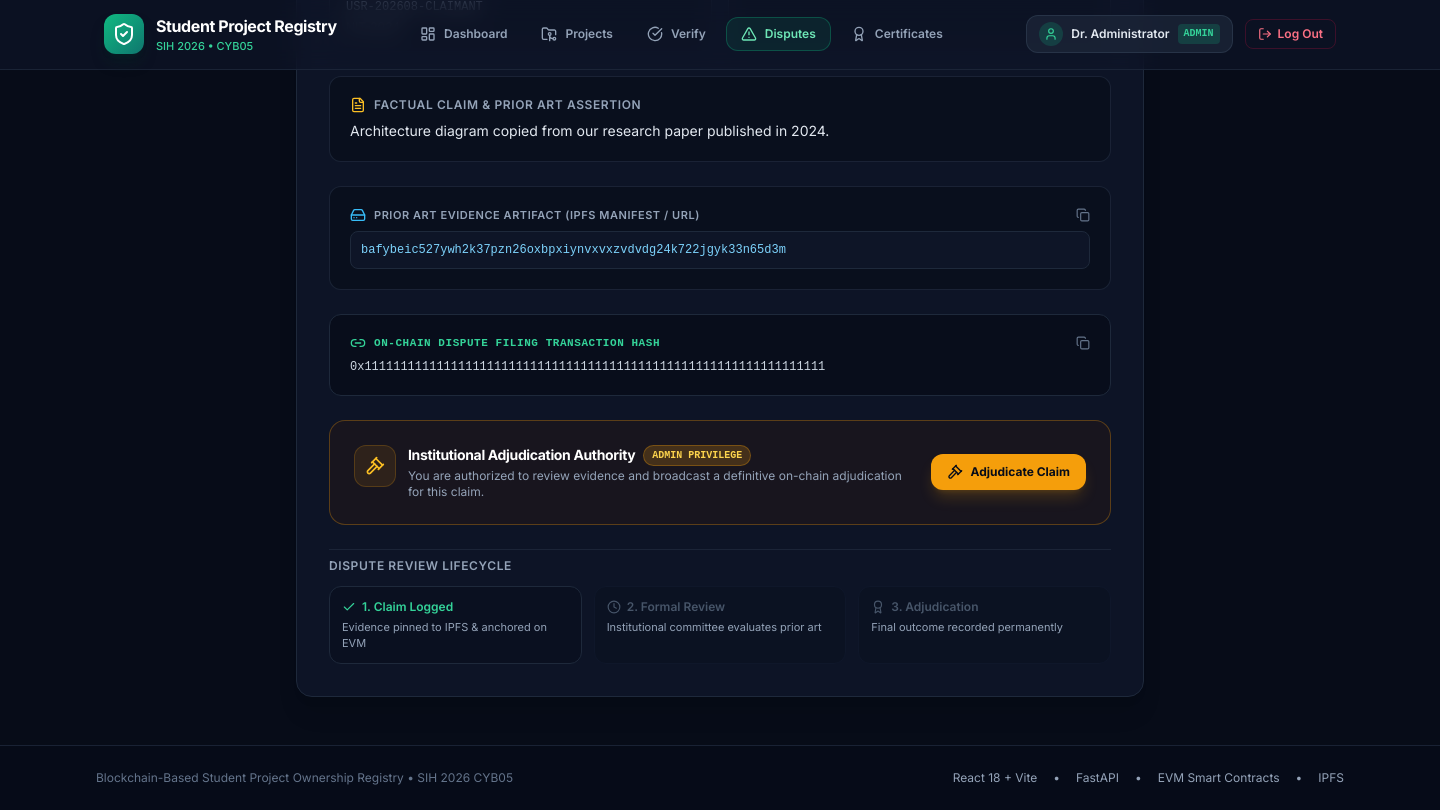
Test case: STEP 2.12 Production Integration Journeys › Journey 11 & 12: Dispute Detail — Admin Adjudication active for ADMIN, hidden for STUDENT
This screenshot has width=1440, height=810.
(page scrolled)
Expected: the element with test id "admin-adjudication-panel" is shown, [329,420,1111,524]
Click the button "Adjudicate Claim".
click(1008, 472)  # box [930,454,1086,490]
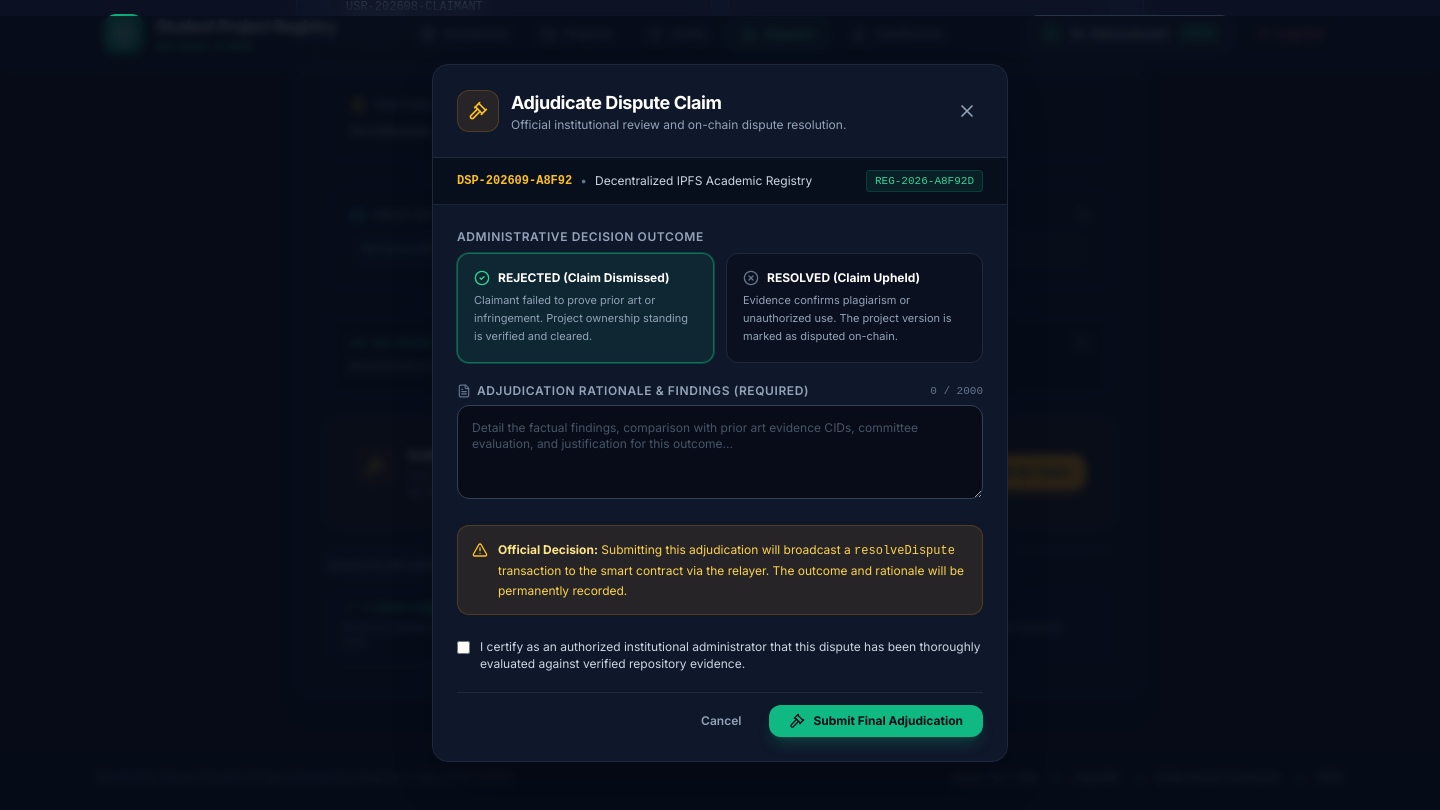
Expected: the heading "Adjudicate Dispute Claim" is shown, [511,92,721,113]
